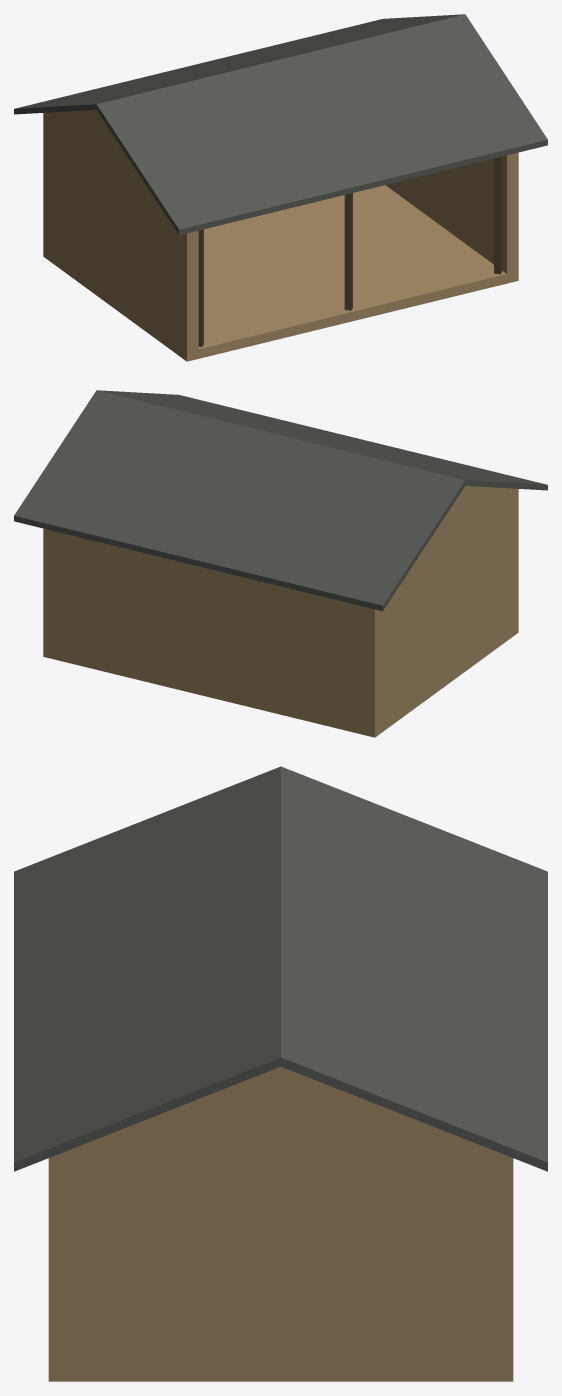
3 renders of one model, top to bottom at view 1: azimuth 30°, elevation 25°; view 2: azimuth 150°, elevation 25°; view 3: azimuth 270°, elevation 25°, orthographic. The views are drawn at different scales.
Visible parts, largest first — view 1: S86-static-LY_P01_earth__FLAT, S86-static-LY_P01_tile__FLAT, S86-static-LY_P01_timber__FLAT; view 2: S86-static-LY_P01_earth__FLAT, S86-static-LY_P01_tile__FLAT; view 3: S86-static-LY_P01_tile__FLAT, S86-static-LY_P01_earth__FLAT.
Boxes of the visible parts, x1,y1,x2,y2 form: S86-static-LY_P01_earth__FLAT: [43, 110, 518, 361]; S86-static-LY_P01_tile__FLAT: [14, 14, 547, 235]; S86-static-LY_P01_timber__FLAT: [198, 156, 502, 346]; S86-static-LY_P01_earth__FLAT: [43, 486, 518, 737]; S86-static-LY_P01_tile__FLAT: [14, 390, 547, 611]; S86-static-LY_P01_tile__FLAT: [14, 766, 547, 1171]; S86-static-LY_P01_earth__FLAT: [48, 1066, 513, 1381].
Bounding box in the file's own units: 8.9 × 4.83 × 6.9.
